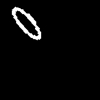chain: (12, 7, 40, 39)
